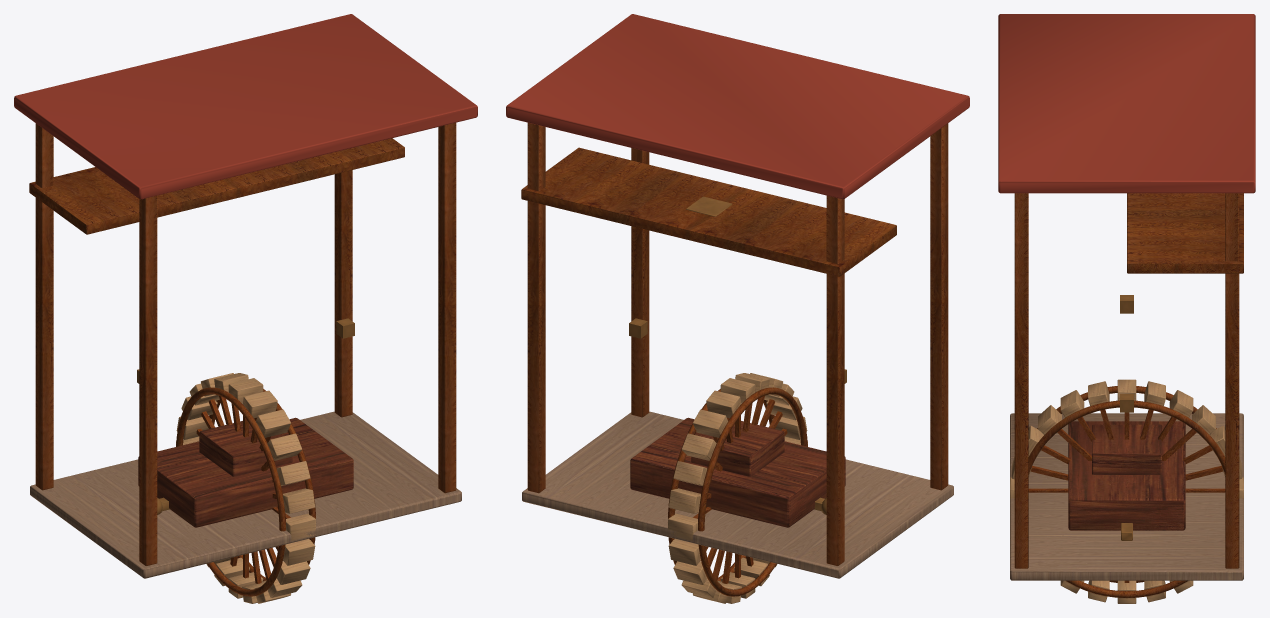
Rendered from waterclock.glb.
The picture shows the model from 3 angles, left to right: view 1: azimuth 30°, elevation 25°; view 2: azimuth 150°, elevation 25°; view 3: azimuth 270°, elevation 25°; orthographic projection.
Visible parts, largest first — view 1: wc_frame, wc_枢轮, wc_退水壶, wc_天池; view 2: wc_frame, wc_枢轮, wc_退水壶, wc_天池; view 3: wc_frame, wc_枢轮, wc_退水壶, wc_天池.
Boxes of the visible parts, <box> form: wc_frame: <box>14,14,477,578</box>; wc_枢轮: <box>176,373,315,603</box>; wc_退水壶: <box>138,417,353,527</box>; wc_天池: <box>199,421,292,476</box>; wc_frame: <box>506,14,969,578</box>; wc_枢轮: <box>668,373,807,603</box>; wc_退水壶: <box>630,417,845,527</box>; wc_天池: <box>691,421,784,476</box>; wc_frame: <box>998,14,1255,580</box>; wc_枢轮: <box>1010,379,1243,603</box>; wc_退水壶: <box>1068,421,1185,530</box>; wc_天池: <box>1092,424,1161,474</box>.
Size of the model in its own units: 0.34 by 0.472 by 0.22.
10 materials, 7 textured.
